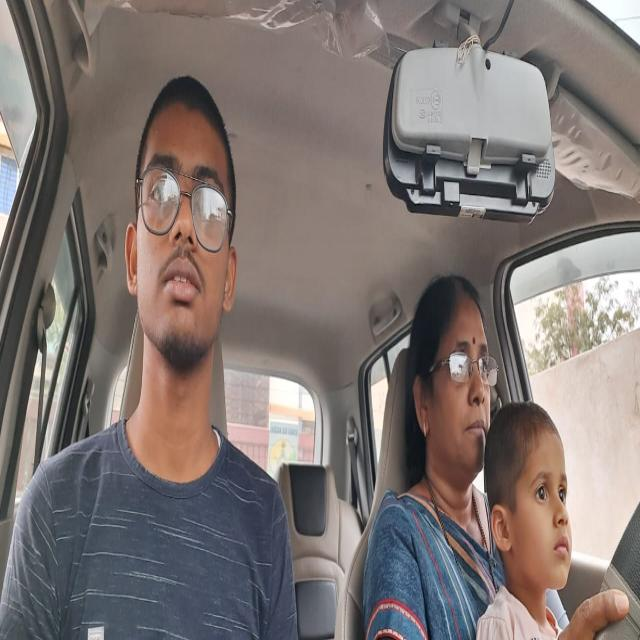person: (125, 67, 238, 378), (408, 264, 495, 492), (487, 402, 577, 584)
